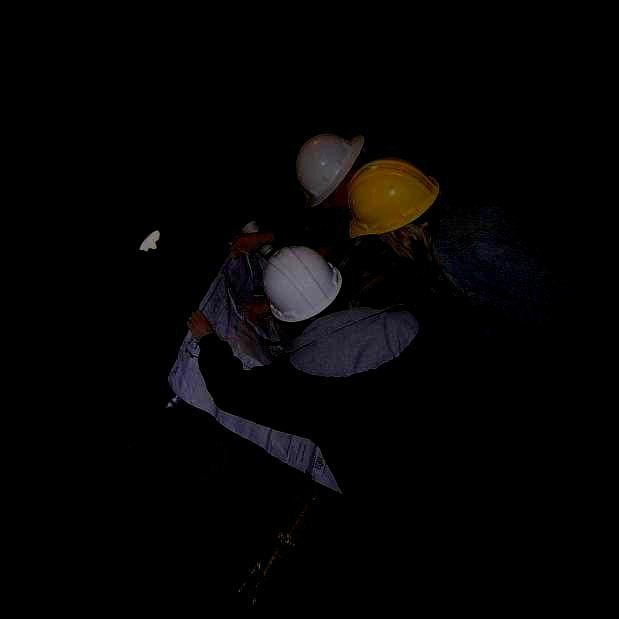helmet: (346, 158, 440, 260), (262, 246, 342, 321), (295, 134, 365, 206)
